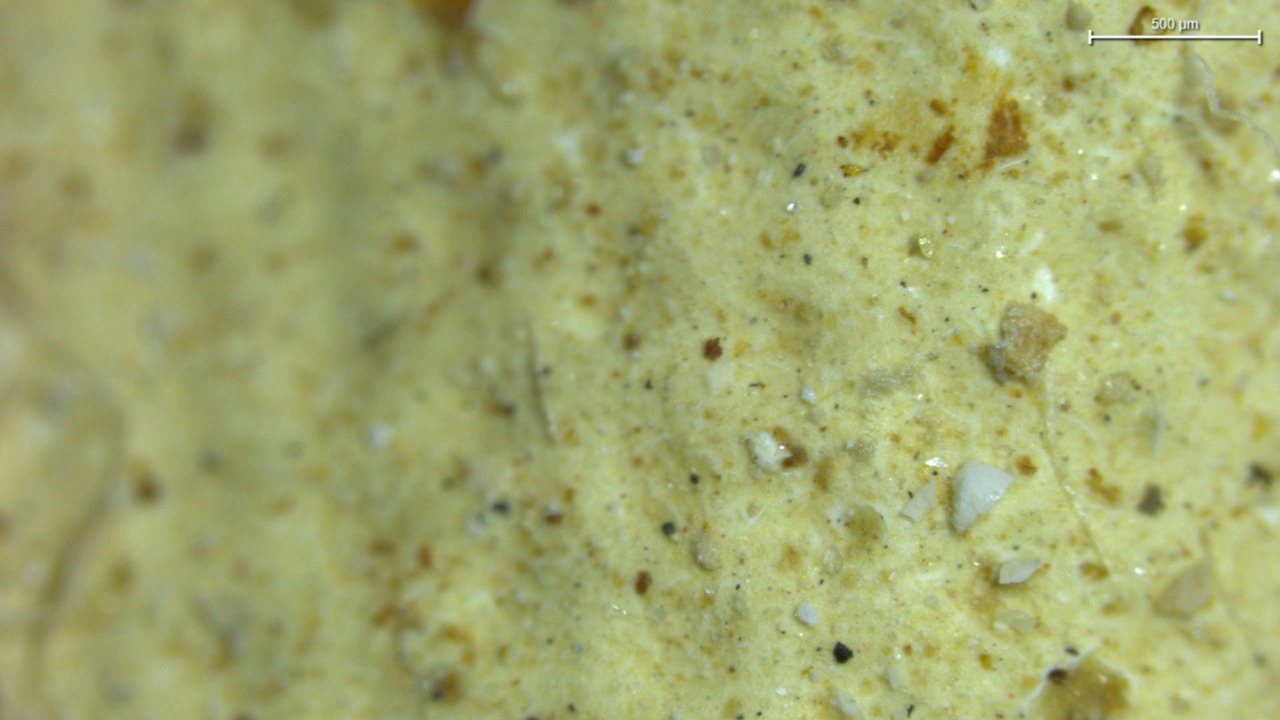microplastic_fragment: (984, 304, 1062, 385), (948, 462, 1012, 530), (796, 601, 820, 626)
